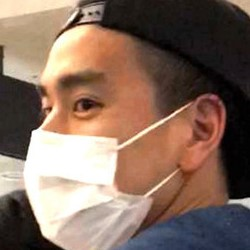mask: (18, 128, 169, 250)
